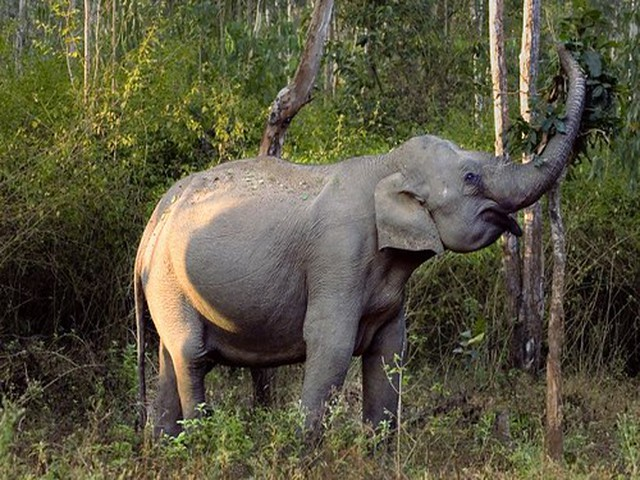Elephant: (132, 79, 579, 429)
